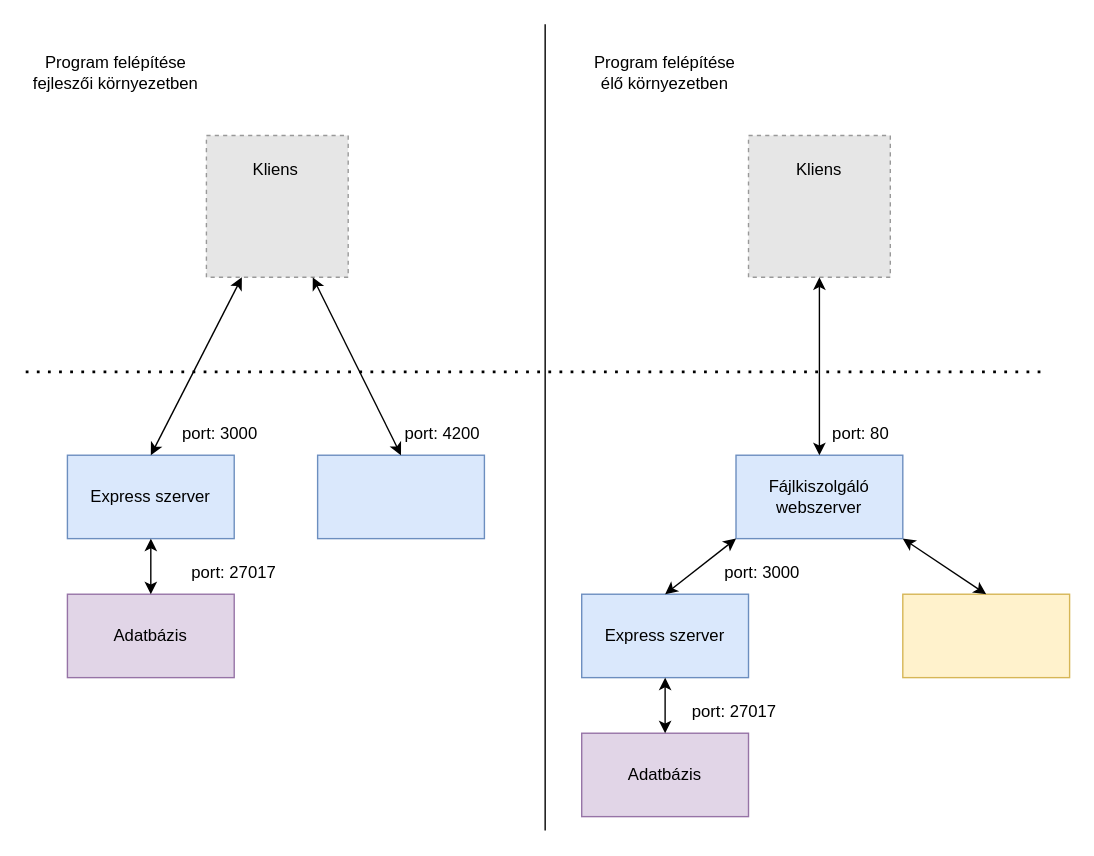
Some shapes in this 1094 by 856 pixel diagram are drawn without their labels. Grey dashed boxes stand in for pictures. Each missing label, with the box of its shape:
Angular fejlesztői szerver: (316, 454, 484, 539)
Statikus fájlok: (901, 593, 1070, 678)
